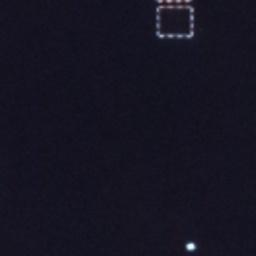square_solid: (153, 2, 197, 40)
